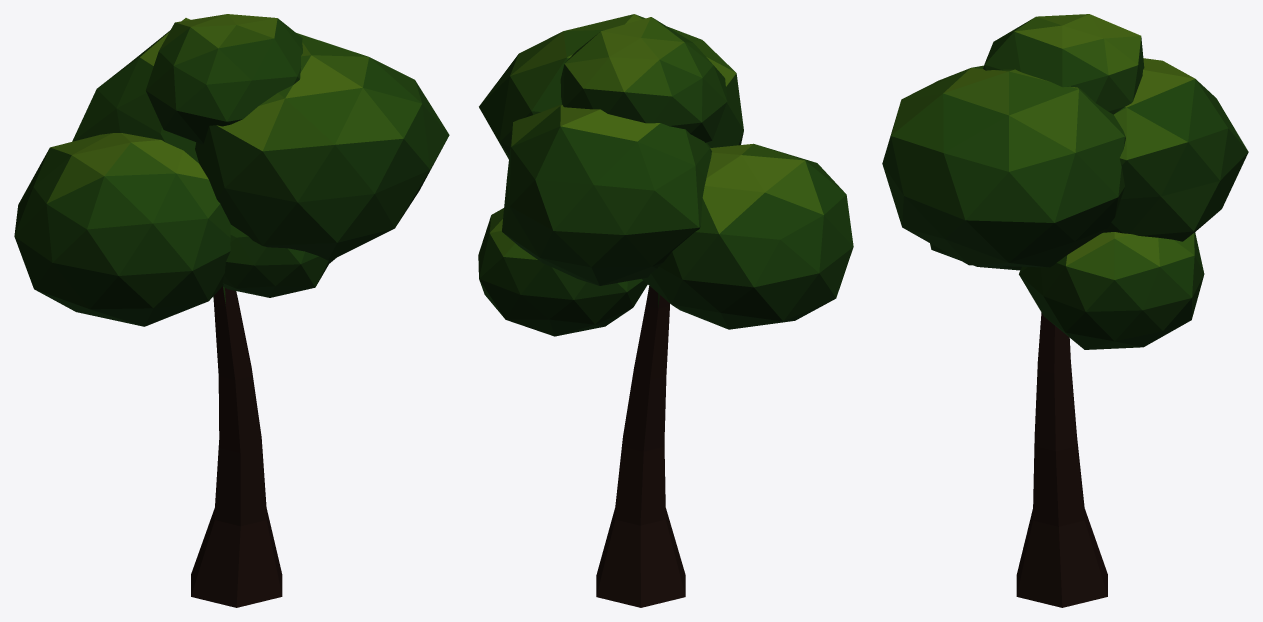
File: tree_orchard_tall.glb
3 renders of one model, left to right at view 1: azimuth 30°, elevation 25°; view 2: azimuth 150°, elevation 25°; view 3: azimuth 270°, elevation 25°, orthographic. The views are drawn at different scales.
Parts seen in each view (by area): view 1: tree_orchard_tall; view 2: tree_orchard_tall; view 3: tree_orchard_tall.
Boxes of the visible parts, x1,y1,x2,y2 form: tree_orchard_tall: (14, 14, 449, 607); tree_orchard_tall: (478, 14, 853, 607); tree_orchard_tall: (882, 14, 1248, 607).
Bounding box in the file's own units: 6.11 × 8.81 × 5.22.
